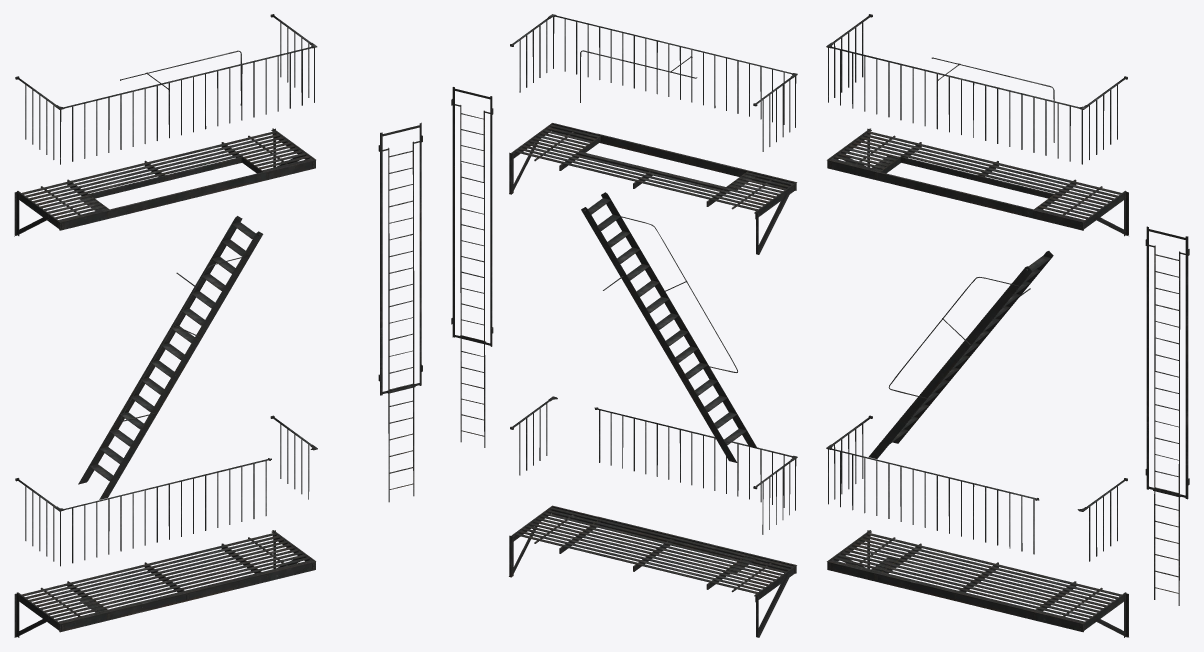
File: modular_fire_escape.glb
3 renders of one model, left to right at view 1: azimuth 30°, elevation 25°; view 2: azimuth 150°, elevation 25°; view 3: azimuth 330°, elevation 25°, orthographic. The views are drawn at different scales.
Visible parts, largest first — view 1: modular_fire_escape_platform_middle, modular_fire_escape_railing_middle; view 2: modular_fire_escape_platform_middle, modular_fire_escape_railing_middle; view 3: modular_fire_escape_platform_middle, modular_fire_escape_railing_middle.
Boxes of the visible parts, x1,y1,x2,y2 form: modular_fire_escape_platform_middle: (14,128,315,637); modular_fire_escape_railing_middle: (15,14,422,566); modular_fire_escape_platform_middle: (509,123,796,637); modular_fire_escape_railing_middle: (451,14,797,534); modular_fire_escape_platform_middle: (827,128,1128,637); modular_fire_escape_railing_middle: (826,14,1189,605).
Size of the model in its own units: 6.66 by 9.76 by 1.42.
2 materials, 2 textured.
